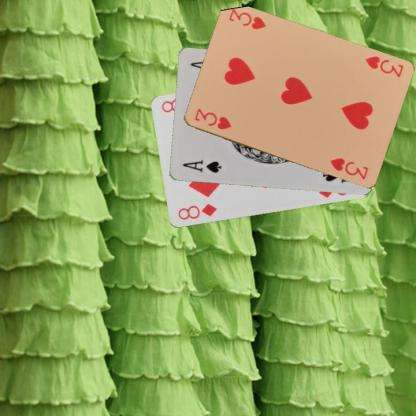3h: (362, 53, 404, 79), (192, 106, 232, 131)
8d: (175, 201, 218, 221)
As: (180, 158, 223, 174)
